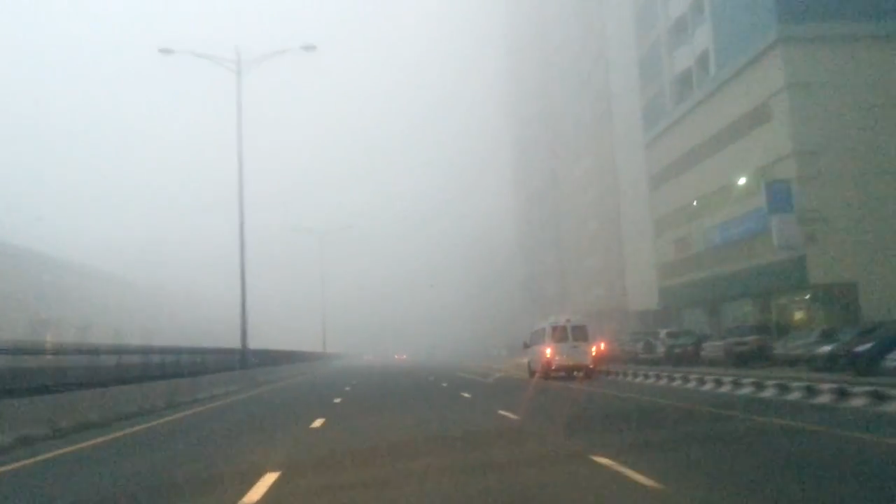car: (522, 319, 596, 381), (812, 322, 895, 371), (695, 320, 782, 364), (770, 324, 856, 366), (630, 325, 701, 364)
